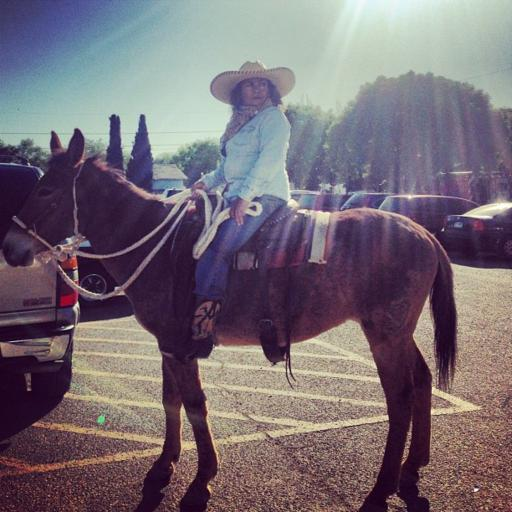horse: (2, 128, 458, 512)
